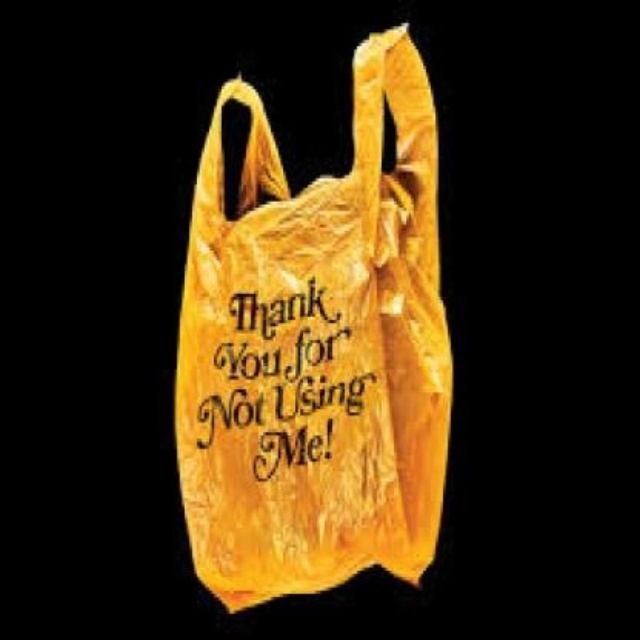trash: (175, 25, 451, 609)
